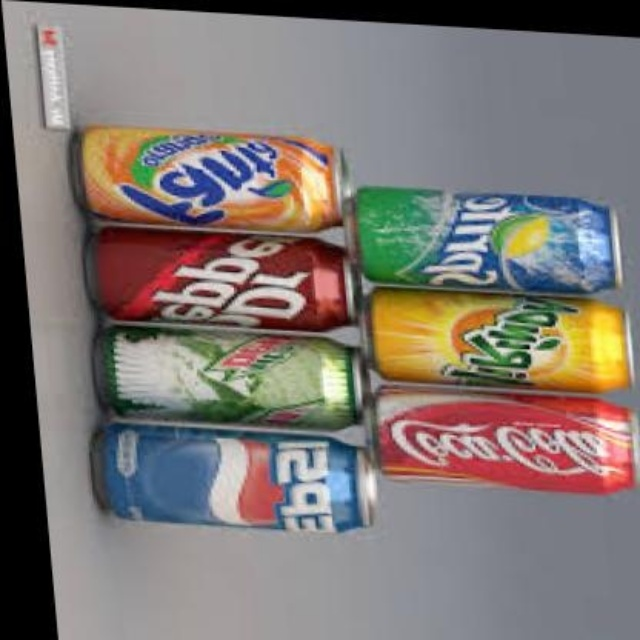trash: (95, 423, 365, 531), (78, 125, 340, 231), (355, 188, 617, 291), (371, 288, 629, 391), (377, 391, 634, 492), (102, 326, 355, 428), (97, 228, 352, 329)
